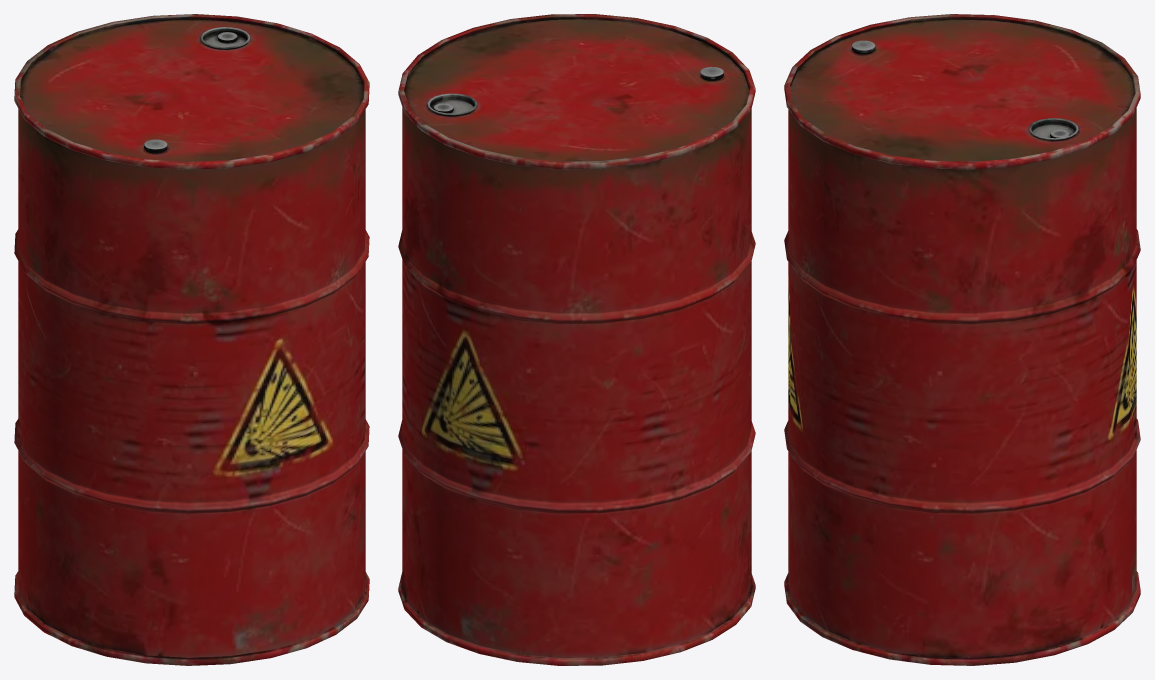
File: Barrel_01.gltf
The picture shows the model from 3 angles, left to right: view 1: azimuth 30°, elevation 25°; view 2: azimuth 150°, elevation 25°; view 3: azimuth 270°, elevation 25°; orthographic projection.
Parts seen in each view (by area): view 1: Barrel_01; view 2: Barrel_01; view 3: Barrel_01.
Boxes of the visible parts, bbox=[...] form: Barrel_01: bbox=[14, 14, 369, 665]; Barrel_01: bbox=[398, 14, 755, 665]; Barrel_01: bbox=[784, 14, 1140, 665].
Size of the model in its own units: 0.563 by 0.88 by 0.563.
1 material, 1 textured.
